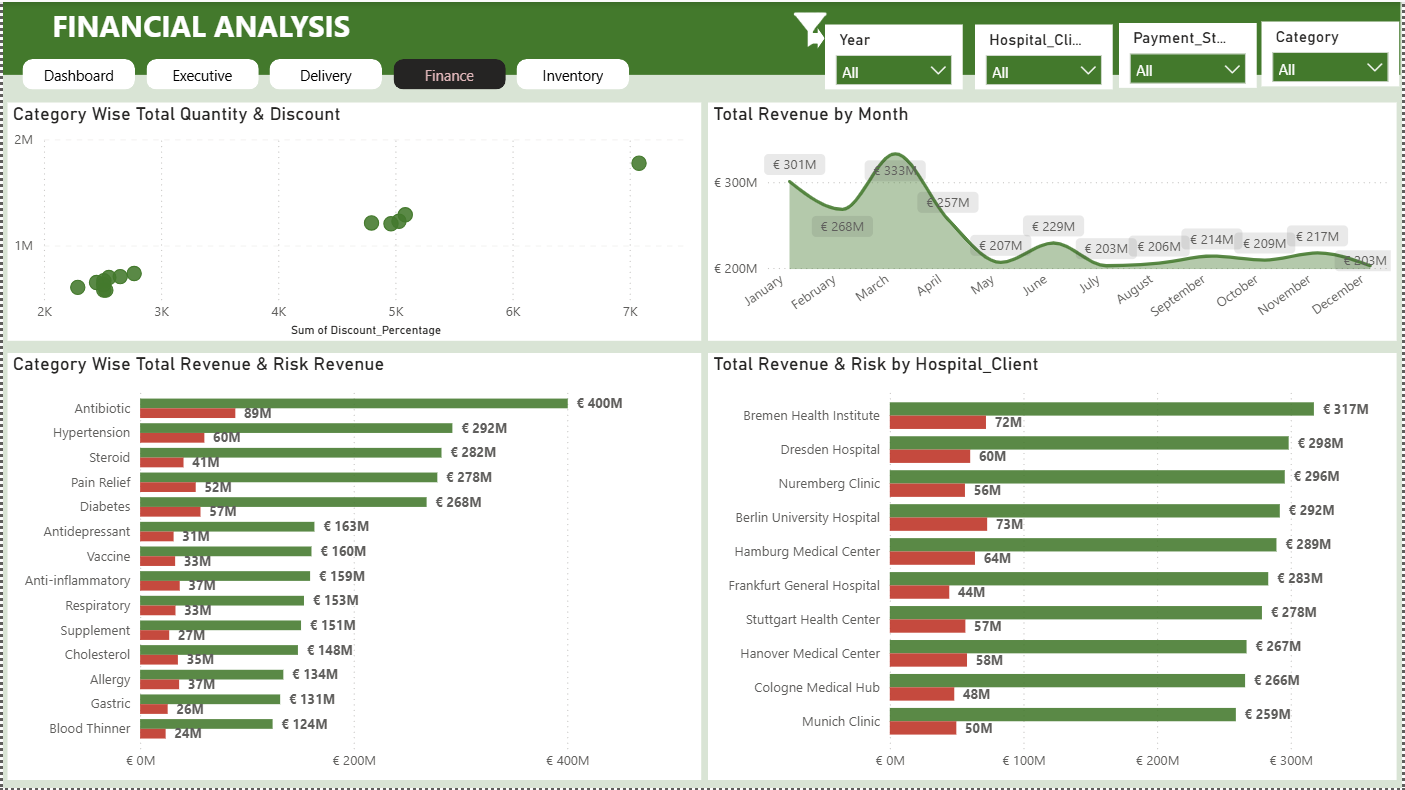

This screenshot's page, from the dashboard's own definition file:
{"tool":"powerbi","page":{"name":"Finance","canvas":[1280,720],"ordinal":3},"visuals":[{"type":"clusteredBarChart","title":"Total Revenue & Risk by Hospital_Client","fields":{"Category":["Pharma_Healthcare_Logistics_Dataset.Hospital_Client"],"Y":["Messures.Total Sales","Messures.3Revenue at Risk"]},"box":[645.1,321,629.9,390.7],"z":0},{"type":"areaChart","title":"Total Revenue by Month","fields":{"Y":["Messures.Total Sales"],"Category":["Pharma_Healthcare_Logistics_Dataset.Order_Date.Variation.Date Hierarchy.Month"]},"box":[645.1,92.4,629.9,218],"z":1000},{"type":"scatterChart","title":"Category Wise Total Quantity & Discount","fields":{"X":["Sum(Pharma_Healthcare_Logistics_Dataset.Discount_Percentage)"],"Y":["Sum(Pharma_Healthcare_Logistics_Dataset.Quantity_Units)"],"Category":["Pharma_Healthcare_Logistics_Dataset.Category"]},"box":[4.5,92.4,634.5,218],"z":2000},{"type":"clusteredBarChart","title":"Category Wise Total Revenue & Risk  Revenue","fields":{"Category":["Pharma_Healthcare_Logistics_Dataset.Category"],"Y":["Messures.Total Sales","Messures.3Revenue at Risk"]},"box":[4.5,321,634.5,390.7],"z":3000},{"type":"textbox","box":[0,0,1279.5,66.6],"z":4000},{"type":"slicer","fields":{"Values":["Pharma_Healthcare_Logistics_Dataset.Category"]},"box":[1150.8,18.2,125.7,59.1],"z":5000},{"type":"slicer","fields":{"Values":["Pharma_Healthcare_Logistics_Dataset.Payment_Status"]},"box":[1020.6,19.7,125.7,59.1],"z":6000},{"type":"slicer","fields":{"Values":["Pharma_Healthcare_Logistics_Dataset.Order_Date.Variation.Date Hierarchy.Year"]},"box":[752.6,21.2,125.7,59.1],"z":7000},{"type":"slicer","fields":{"Values":["Pharma_Healthcare_Logistics_Dataset.Hospital_Client"]},"box":[888.8,21.2,125.7,59.1],"z":8000},{"type":"pageNavigator","box":[18.2,51.5,558.7,28.8],"z":9000},{"type":"image","box":[711.7,3,53,48.5],"z":10000},{"type":"shape","box":[738.9,22.7,13.6,19.7],"z":11000}]}

Visuals, with their boxes in screenshot pixels (x1, y1, x2, y2), scaled from the page's 1280x720 canvas onto the 1405x790 screenshot:
"Total Revenue & Risk by Hospital_Client" clusteredBarChart: [708,352,1400,781]
"Total Revenue by Month" areaChart: [708,101,1400,341]
"Category Wise Total Quantity & Discount" scatterChart: [5,101,701,341]
"Category Wise Total Revenue & Risk  Revenue" clusteredBarChart: [5,352,701,781]
textbox: [0,0,1404,73]
slicer - Pharma_Healthcare_Logistics_Dataset.Category: [1263,20,1401,85]
slicer - Pharma_Healthcare_Logistics_Dataset.Payment_Status: [1120,22,1258,86]
slicer - Pharma_Healthcare_Logistics_Dataset.Order_Date.Variation.Date Hierarchy.Year: [826,23,964,88]
slicer - Pharma_Healthcare_Logistics_Dataset.Hospital_Client: [976,23,1114,88]
pageNavigator: [20,57,633,88]
image: [781,3,839,57]
shape: [811,25,826,47]
